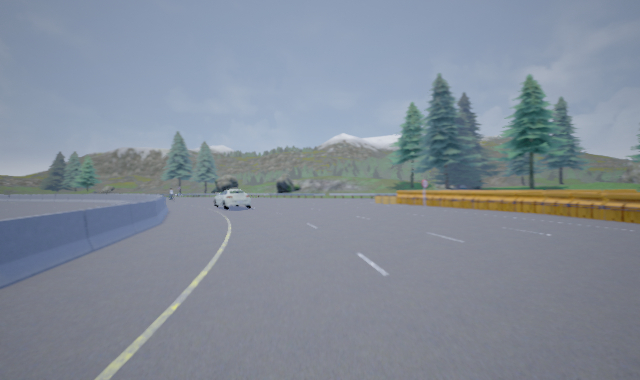traffic_sign: (420, 178, 430, 188)
vehicle: (212, 188, 253, 211)
